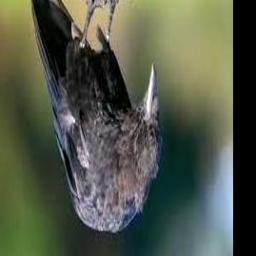Crow: (30, 0, 161, 233)
